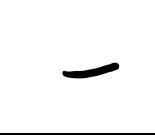minus: (62, 62, 120, 79)
